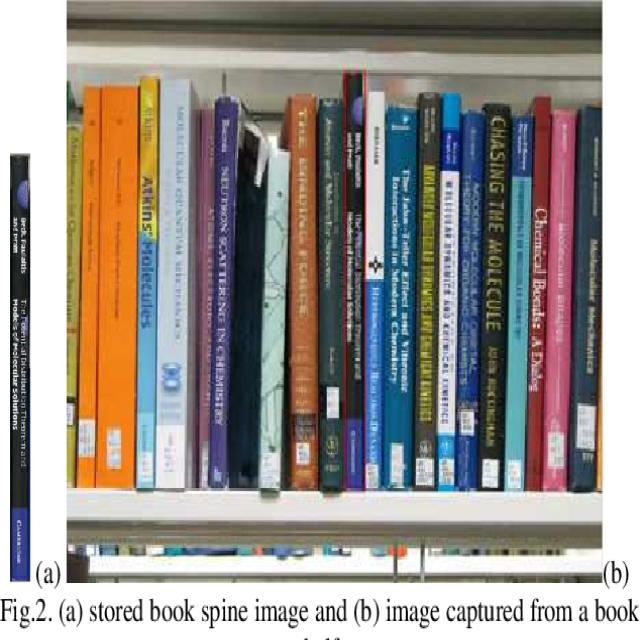book-spines: (95, 85, 138, 489), (154, 77, 188, 489), (382, 105, 418, 492), (543, 106, 576, 491), (479, 102, 510, 490), (571, 104, 602, 491), (412, 93, 441, 493), (524, 97, 552, 493), (289, 95, 317, 488), (504, 114, 533, 492), (258, 150, 290, 489), (455, 110, 482, 492), (210, 96, 236, 489), (135, 76, 159, 490), (342, 67, 365, 490), (75, 85, 99, 488), (437, 90, 460, 495), (318, 98, 341, 492), (365, 93, 386, 490), (199, 108, 213, 490)
